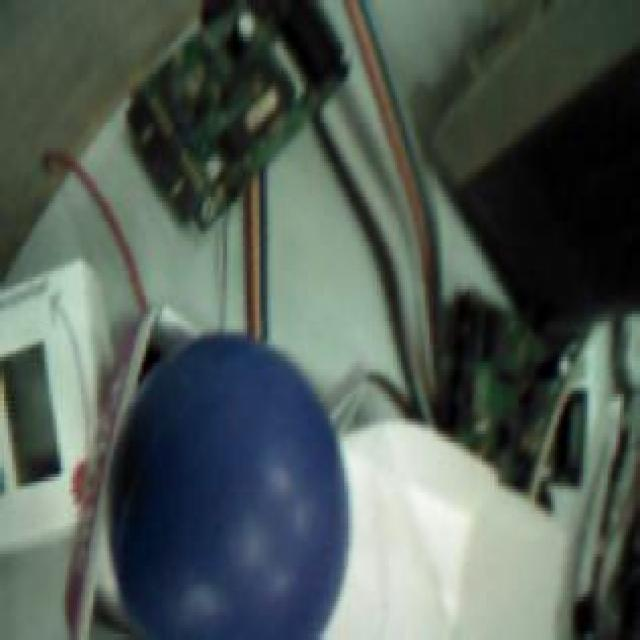BallPurple: (109, 332, 349, 640)
